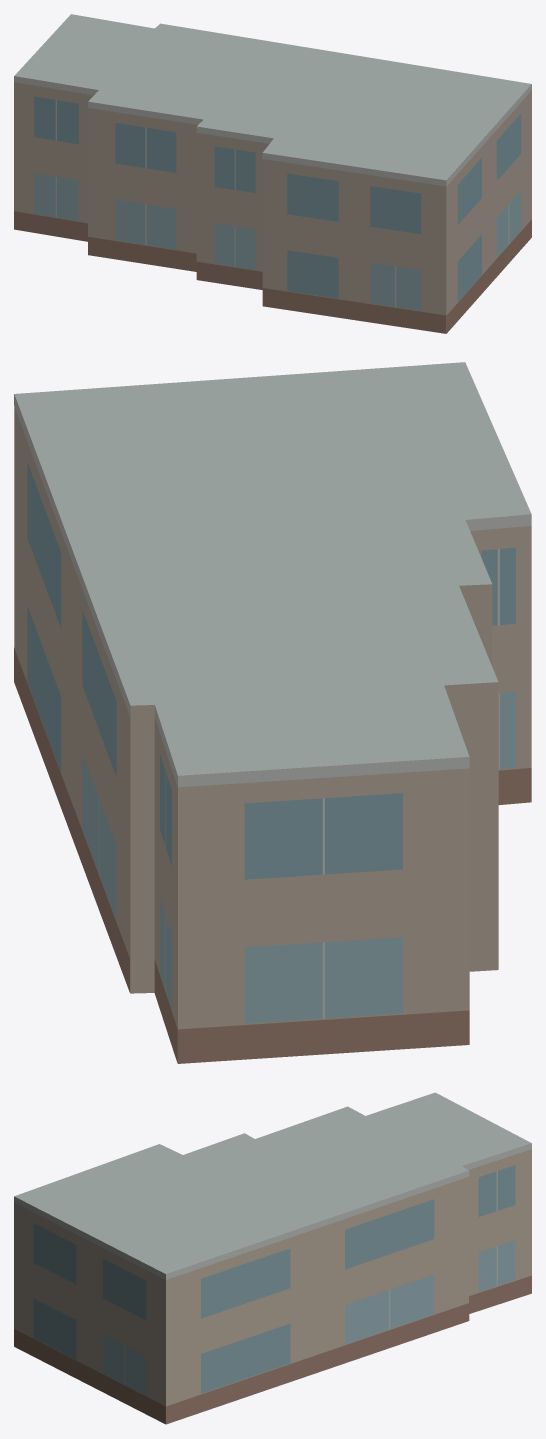
Rendered from survey-upis-32849194.glb.
3 renders of one model, top to bottom at view 1: azimuth 30°, elevation 25°; view 2: azimuth 150°, elevation 25°; view 3: azimuth 270°, elevation 25°, orthographic. The views are drawn at different scales.
Parts seen in each view (by area): view 1: survey-upis-32849194.tmp; view 2: survey-upis-32849194.tmp; view 3: survey-upis-32849194.tmp.
Part boxes in pixels (x1=…): survey-upis-32849194.tmp: x1=14, y1=14, x2=531, y2=333; survey-upis-32849194.tmp: x1=14, y1=362, x2=531, y2=1063; survey-upis-32849194.tmp: x1=14, y1=1092, x2=531, y2=1424.
Size of the model in its own units: 15.82 by 6.1 by 19.05.
